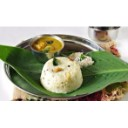venpongal: (41, 57, 83, 93)
